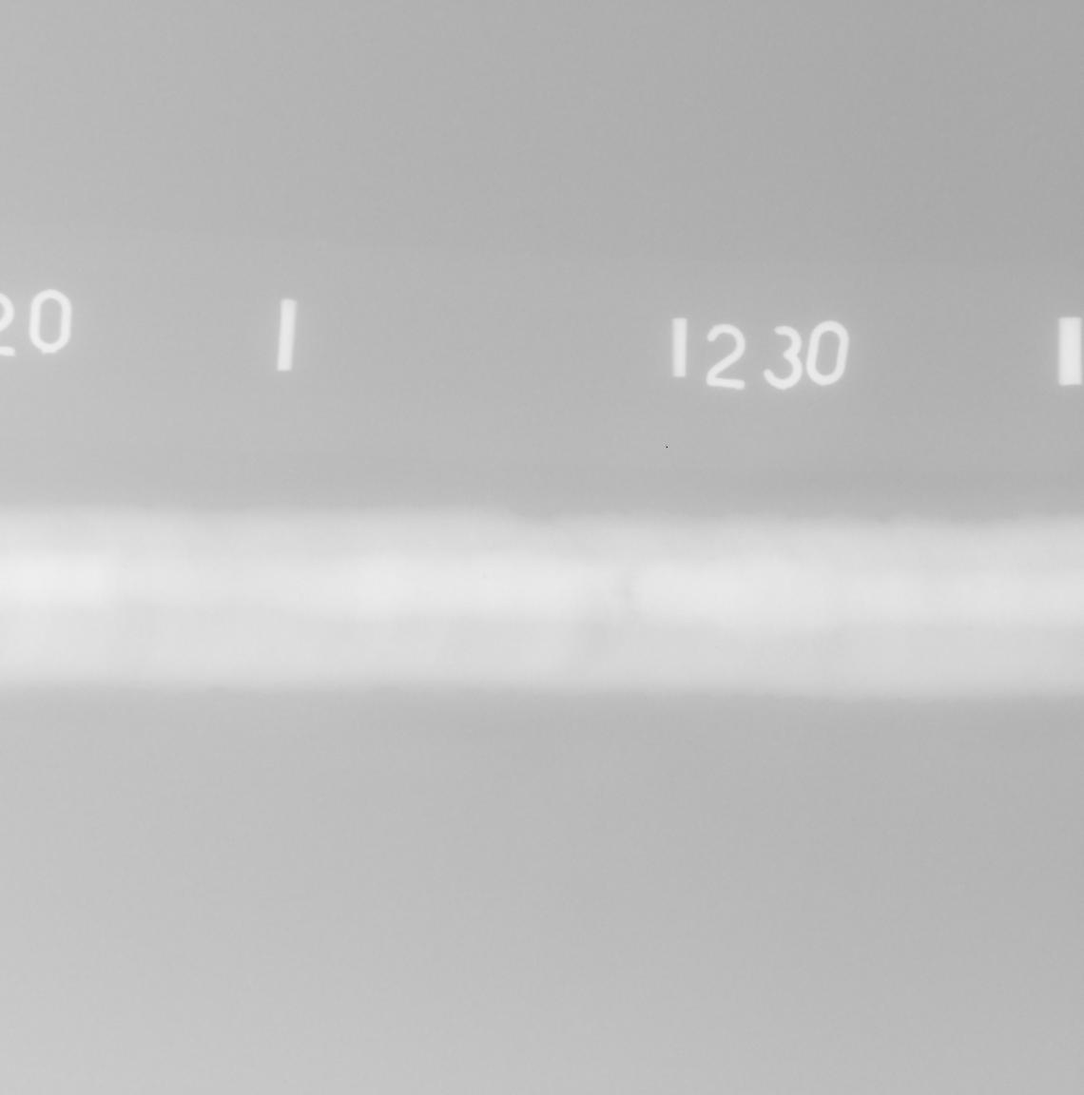Pore/Porosity: (482, 573, 488, 580), (965, 627, 972, 631)
